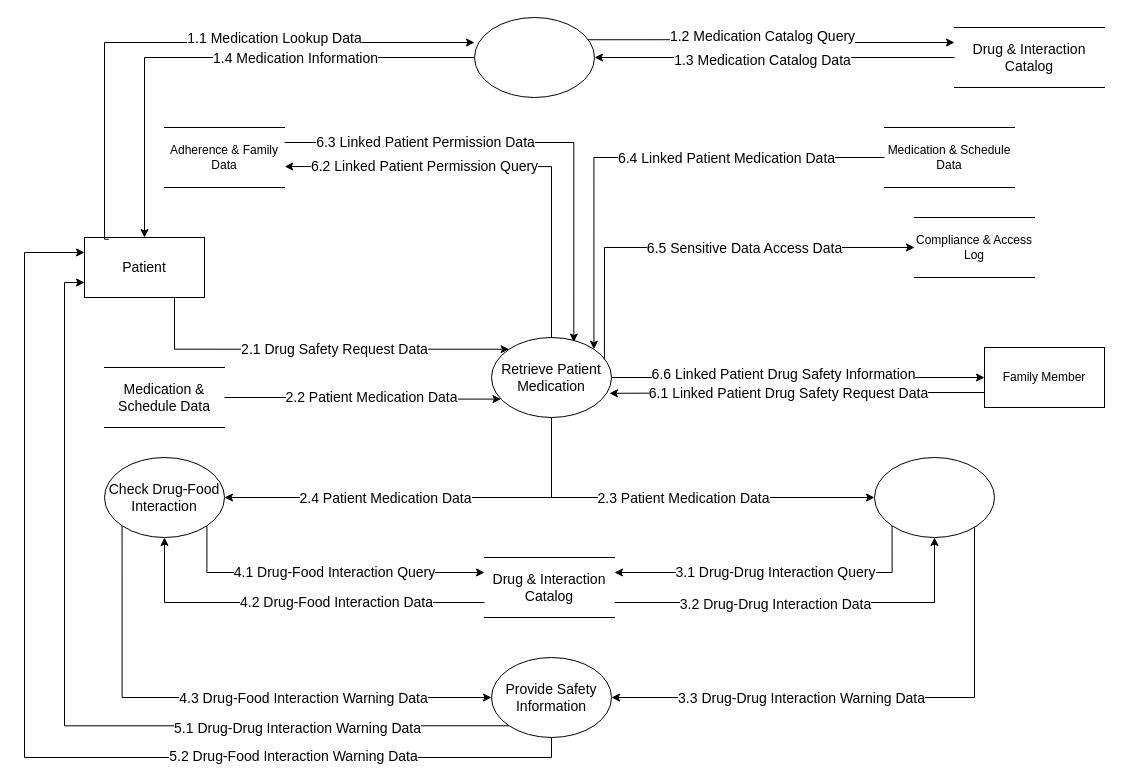
Some shapes in this 1122 by 783 pixel diagram are drawn without their labels. The shapes that lost their labels are listed below. From the top down, each one's centre as x and y in pixels, then its label:
At point (534, 57): "Lookup Information".
At point (934, 497): "Check Drug-Drug Interaction".
